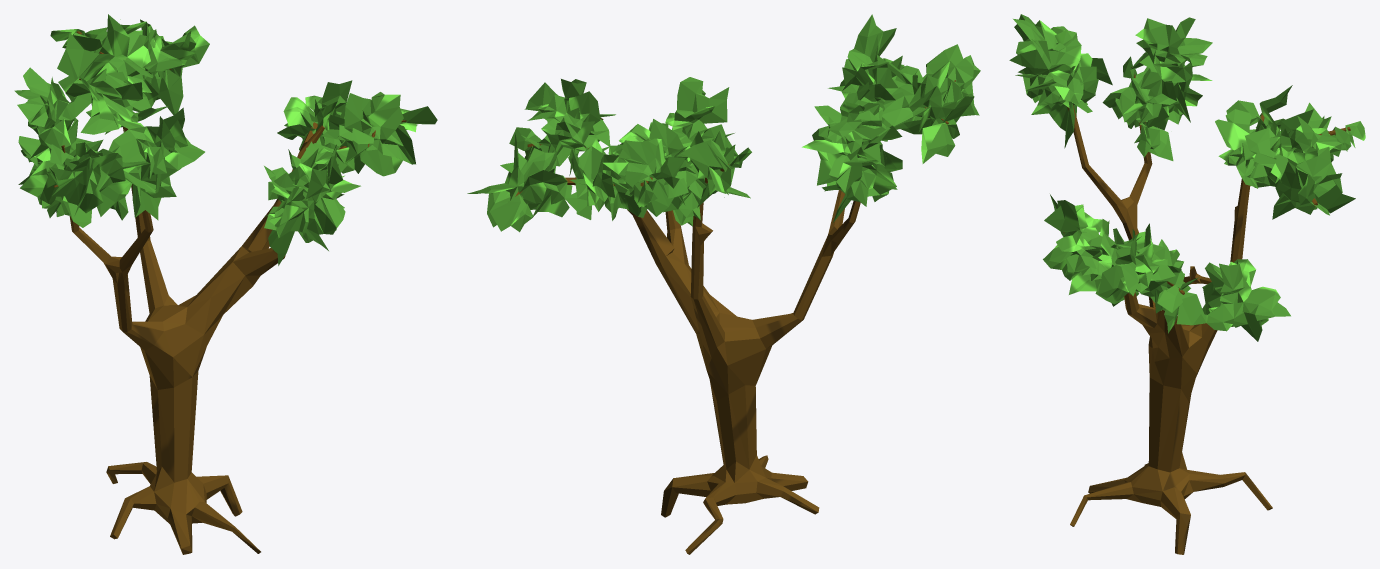
File: arbol1LowRes .fbx
3 renders of one model, left to right at view 1: azimuth 30°, elevation 25°; view 2: azimuth 150°, elevation 25°; view 3: azimuth 270°, elevation 25°, orthographic. The views are drawn at different scales.
Visible parts, largest first — view 1: Icosphere.025 - copy.003 - copy.002 - copy.002; view 2: Icosphere.025 - copy.003 - copy.002 - copy.002; view 3: Icosphere.025 - copy.003 - copy.002 - copy.002.
Boxes of the visible parts, <box> form: Icosphere.025 - copy.003 - copy.002 - copy.002: <box>14,14,437,554</box>; Icosphere.025 - copy.003 - copy.002 - copy.002: <box>467,14,980,554</box>; Icosphere.025 - copy.003 - copy.002 - copy.002: <box>1009,14,1365,554</box>.
Size of the model in its own units: 849 by 1076 by 1201.
